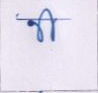i_matra: (43, 8, 58, 42)
